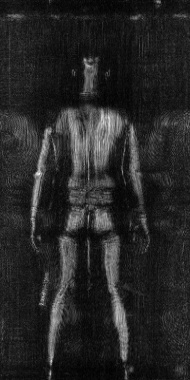gun: (38, 261, 53, 316)
